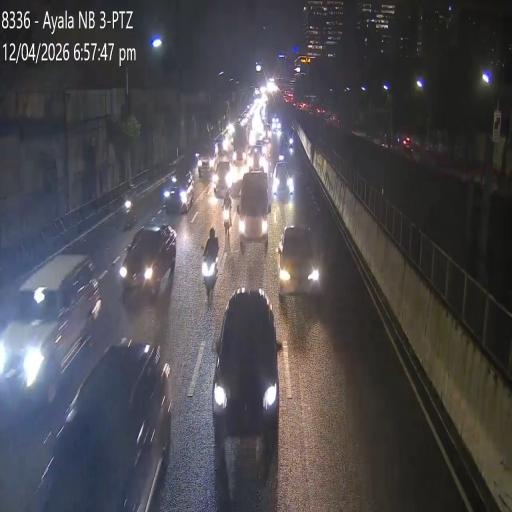Car: (37, 338, 170, 508), (2, 252, 100, 402), (211, 288, 281, 468), (119, 224, 174, 299), (278, 224, 320, 298), (237, 168, 270, 247), (166, 172, 194, 214), (271, 160, 293, 198), (120, 184, 138, 228), (213, 160, 232, 196), (248, 147, 268, 176), (197, 149, 213, 178)
Motor: (201, 225, 219, 297), (223, 201, 232, 238)
Not Accident: (4, 257, 169, 512), (118, 182, 176, 301), (212, 159, 236, 236)
